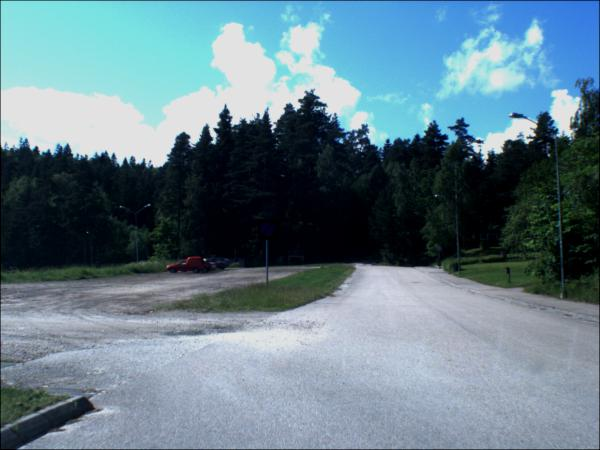NO_PARKING: (258, 220, 278, 242)
